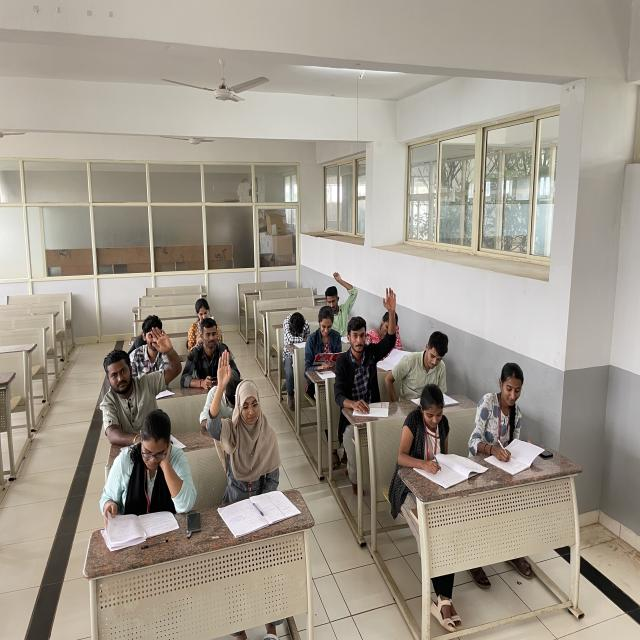Hand Rising: (210, 346, 285, 495), (94, 324, 184, 425), (339, 285, 400, 394), (322, 269, 358, 324)
Reading: (92, 414, 181, 540), (310, 308, 346, 372)
Sleeping: (283, 307, 313, 347)
Using Phone: (186, 318, 229, 387)
Writing: (473, 356, 545, 467), (398, 387, 480, 479)
